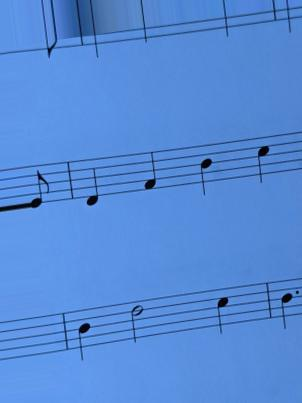note: (71, 306, 97, 366), (194, 141, 218, 199), (249, 133, 274, 187), (79, 156, 103, 211), (211, 286, 234, 339), (275, 276, 294, 338), (141, 146, 162, 196)
